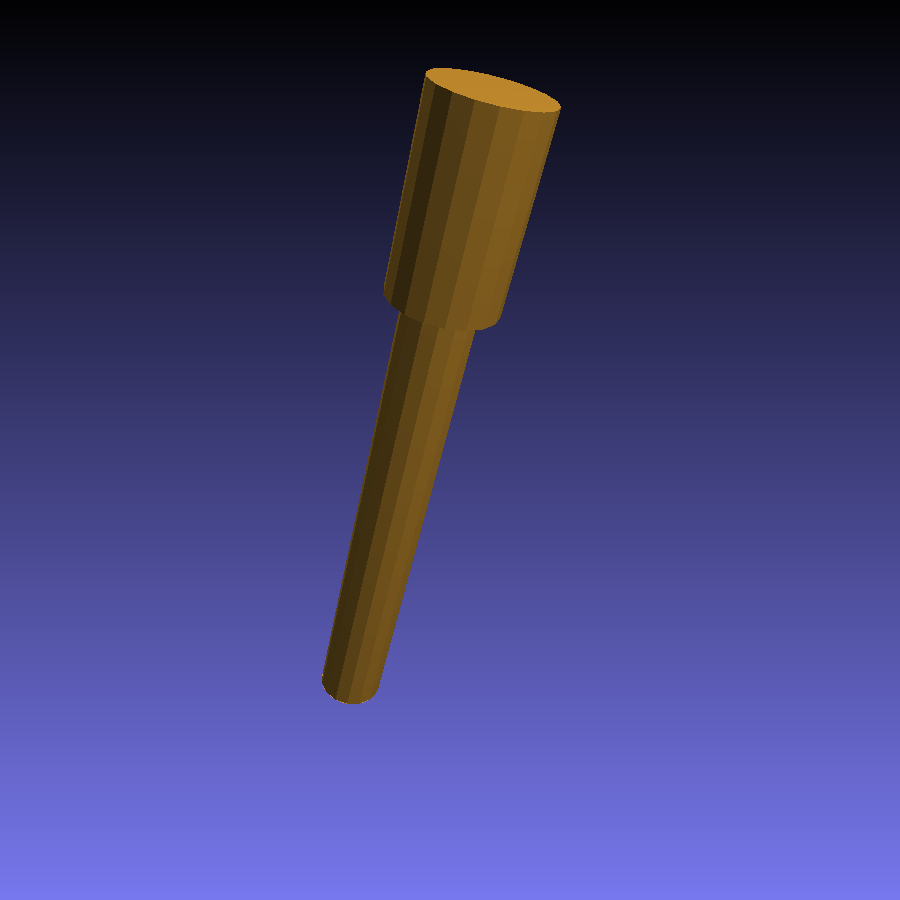cargo_g: (321, 70, 561, 705)
